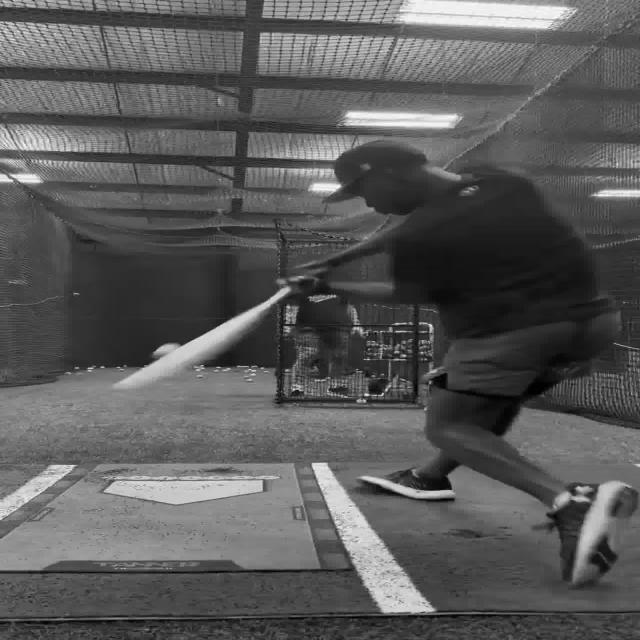baseball: (152, 342, 180, 358), (356, 398, 366, 404)
bat: (135, 286, 293, 396)
shoe: (546, 480, 636, 588), (355, 466, 455, 500), (326, 385, 350, 397), (288, 385, 304, 398)
